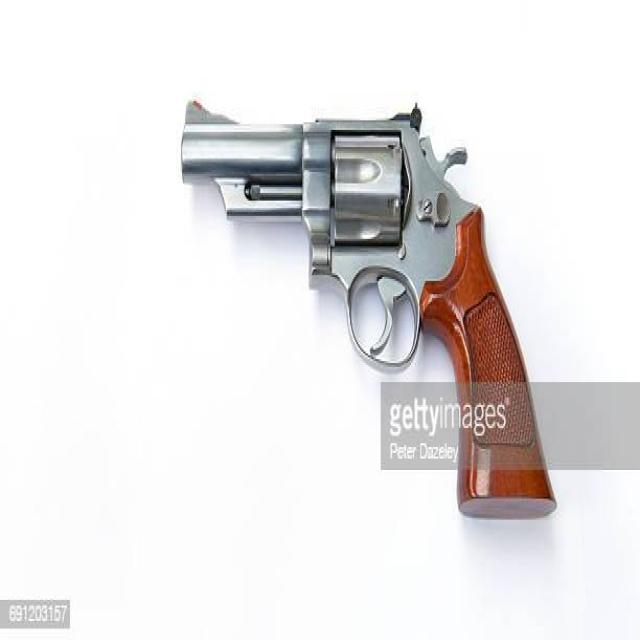HandGun: (181, 101, 554, 522)
